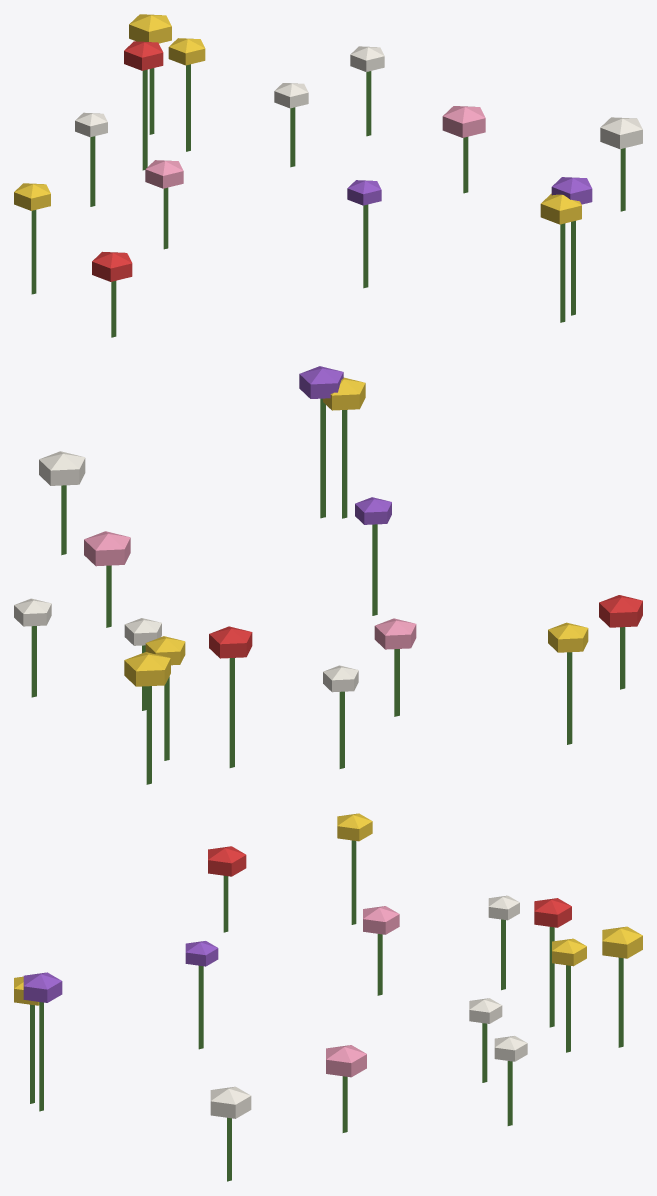
Rendered from wildflowers.glb.
3 renders of one model, top to bottom at view 1: azimuth 30°, elevation 25°; view 2: azimuth 150°, elevation 25°; view 3: azimuth 270°, elevation 25°, orthographic. The views are drawn at different scales.
Parts seen in each view (by area): view 1: wildflowers; view 2: wildflowers; view 3: wildflowers.
Part boxes in pixels (x1,y1,x2,y2): wildflowers: [14, 14, 642, 337]; wildflowers: [14, 366, 642, 784]; wildflowers: [14, 813, 642, 1181].
Size of the model in its own units: 2.37 by 0.5509 by 2.31.
